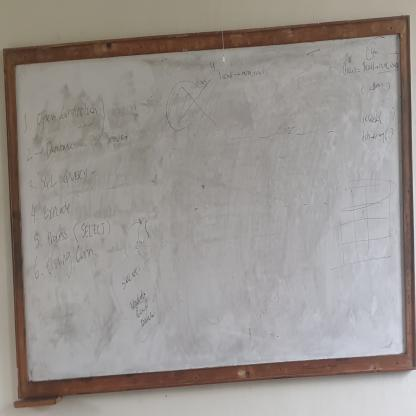Handwritten text: (110, 257, 164, 342), (42, 241, 100, 290), (33, 97, 100, 139), (36, 163, 98, 197), (34, 194, 77, 230), (42, 135, 76, 163), (79, 212, 106, 240), (42, 223, 69, 248)
